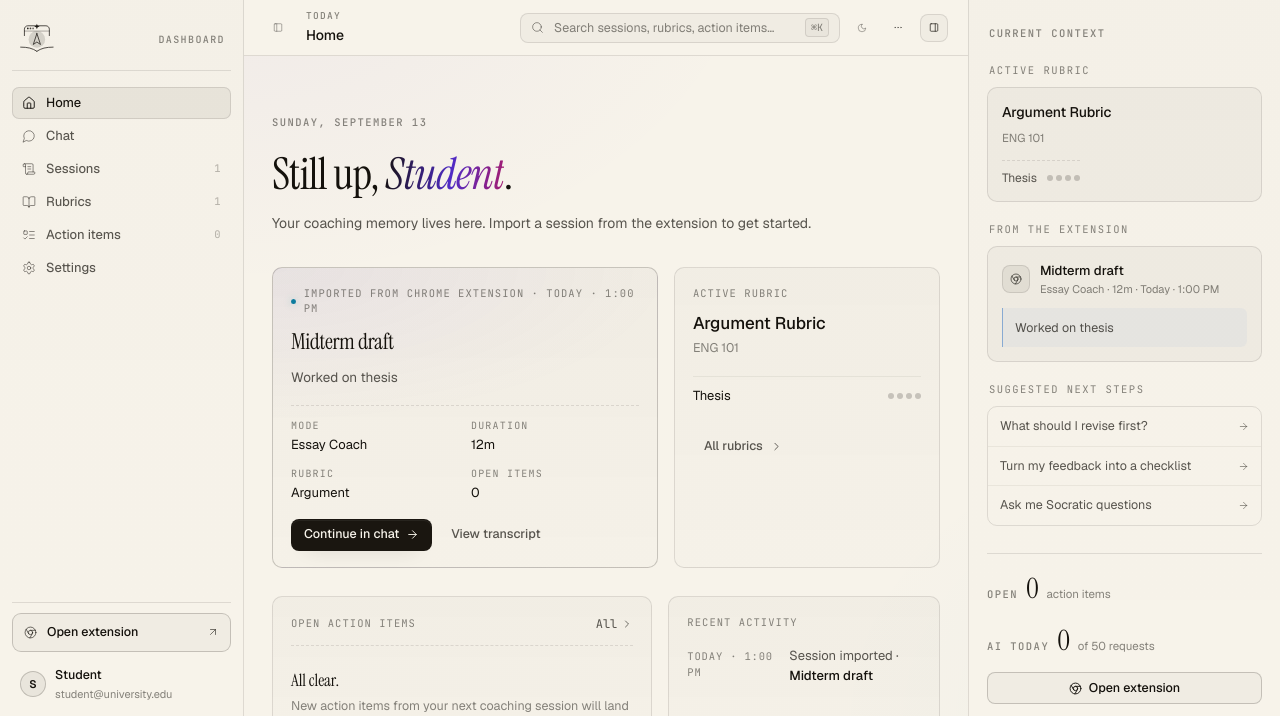
Test: Dashboard rubric RAG behaviors › continues a session via sessions.chatId when present
Click the button "Sessions 1" at (122, 169), box [12,153,231,185]
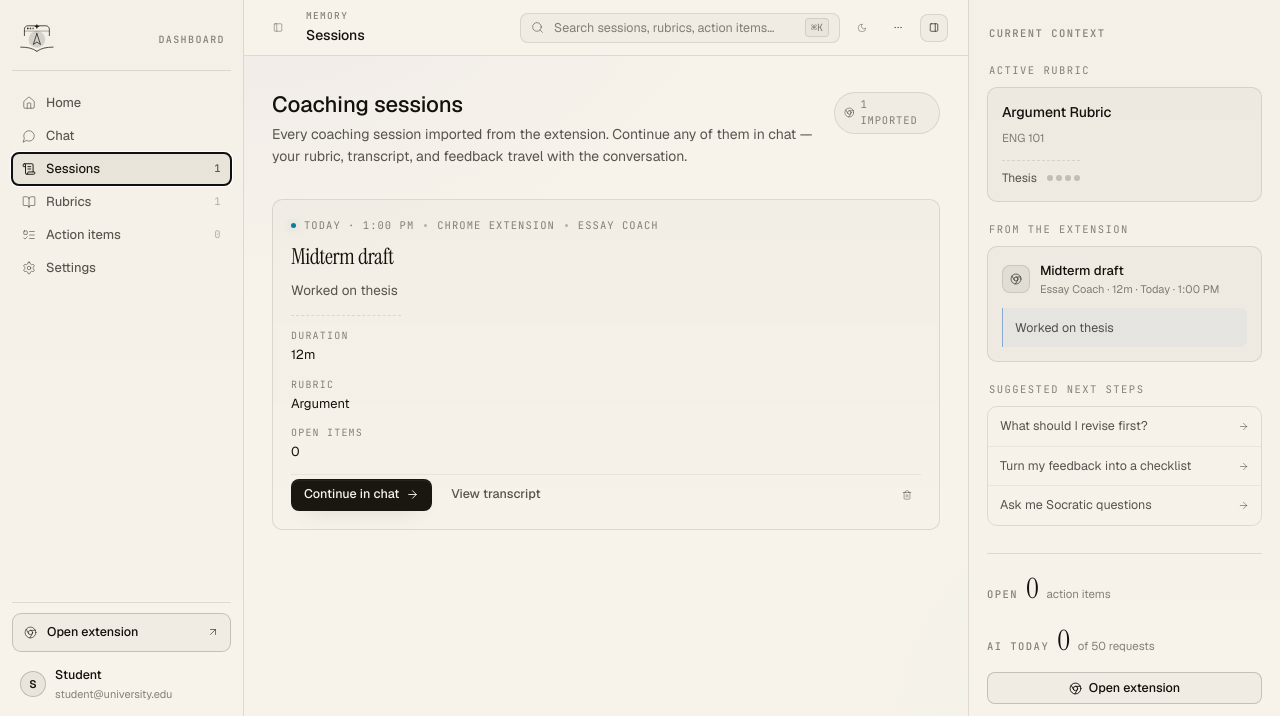
Click the button "Continue in chat" at (362, 495), box [291,479,432,511]
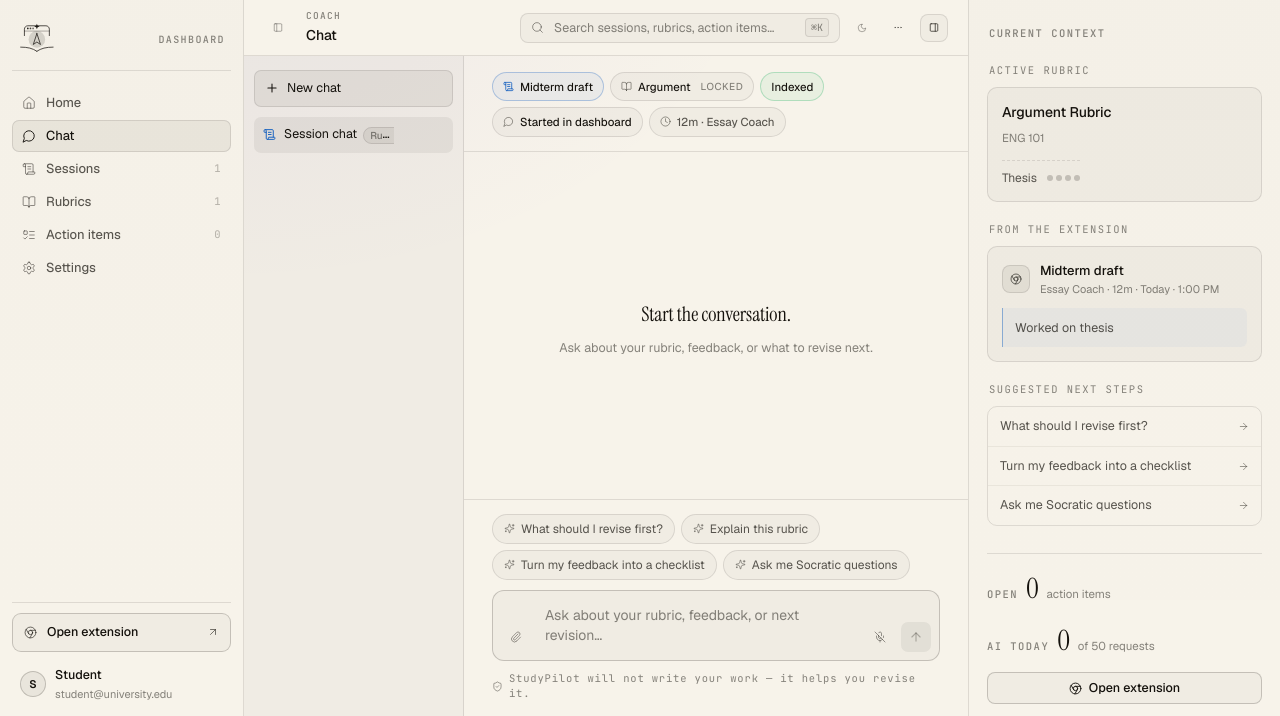
Expected: the text box with placeholder "Ask about your rubric, feedback, or next revision…" is shown, [537,598,859,652]
Expected: the text "Session chat" is shown, [284,125,357,142]
